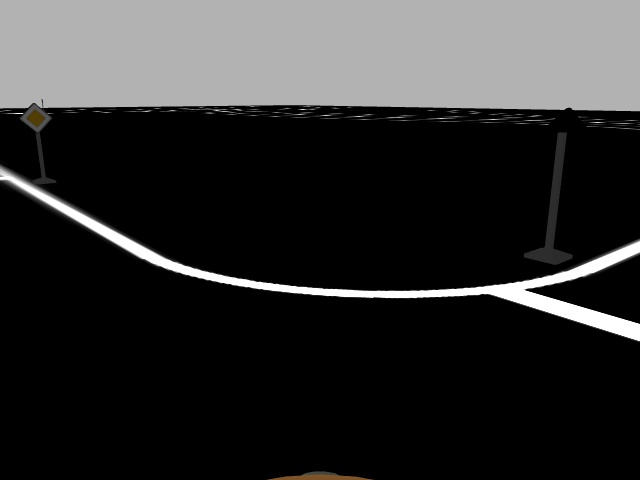priority: (18, 102, 52, 133)
